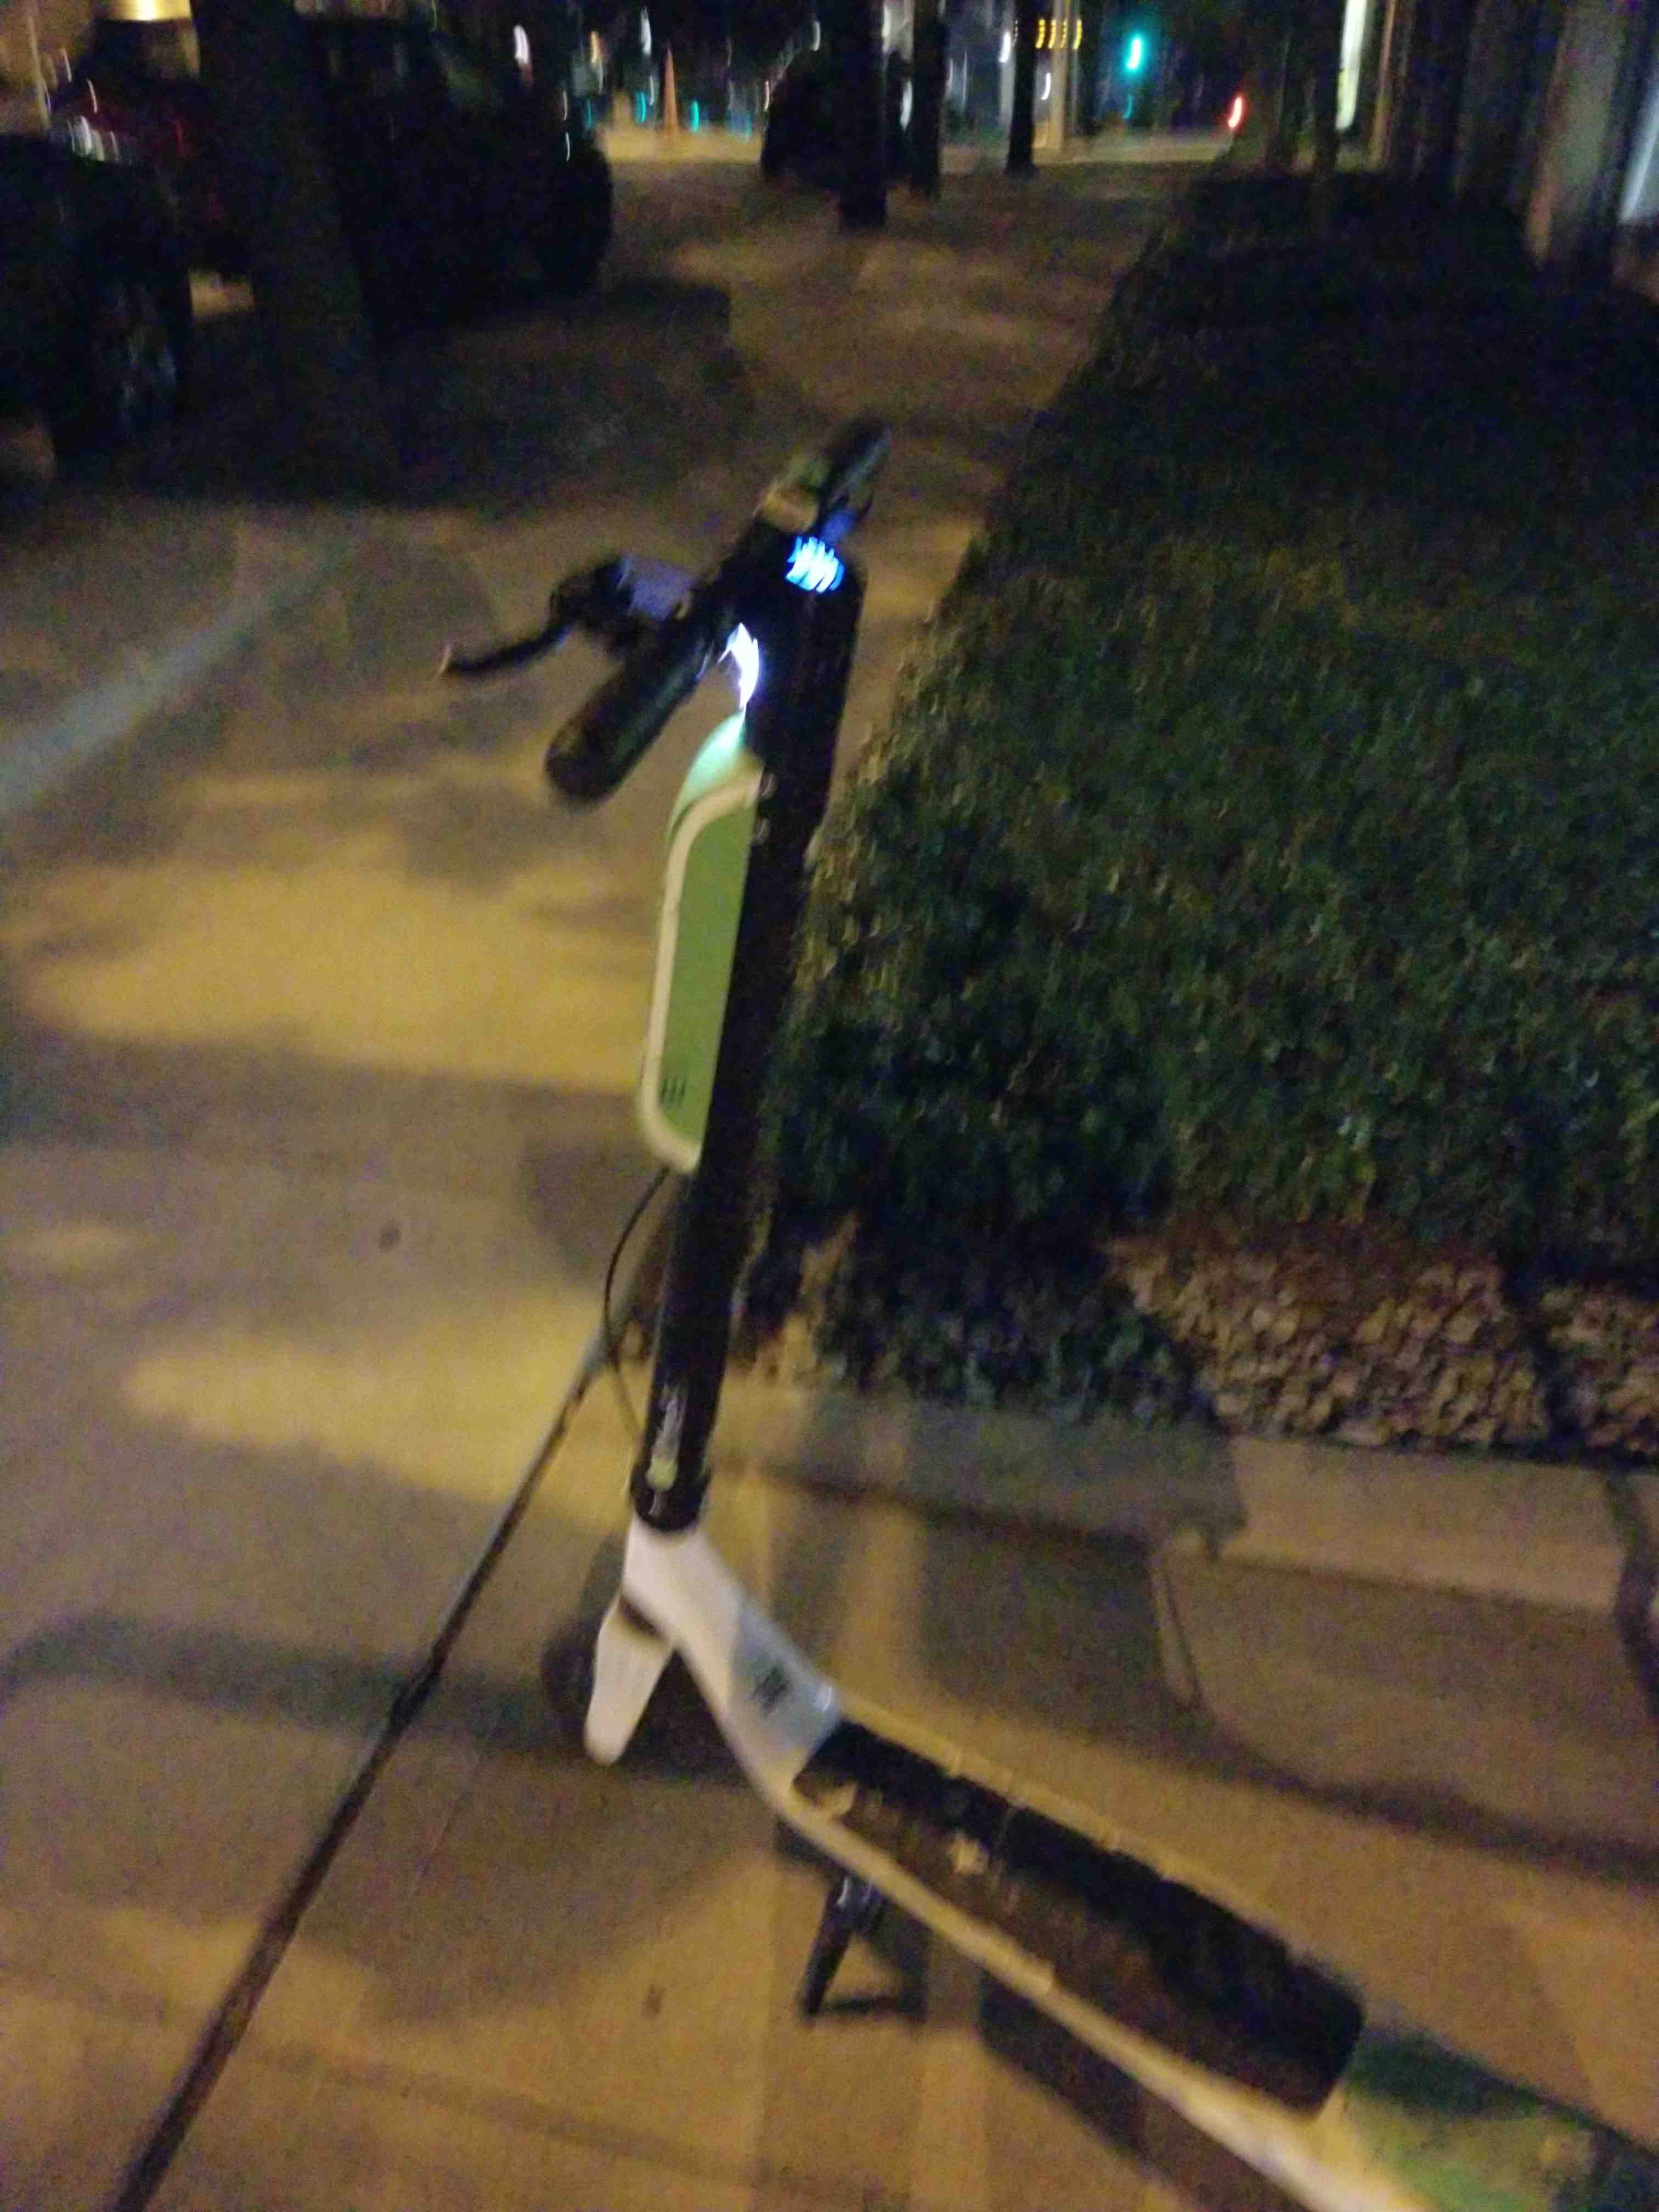scooter: (437, 385, 1649, 2212)
